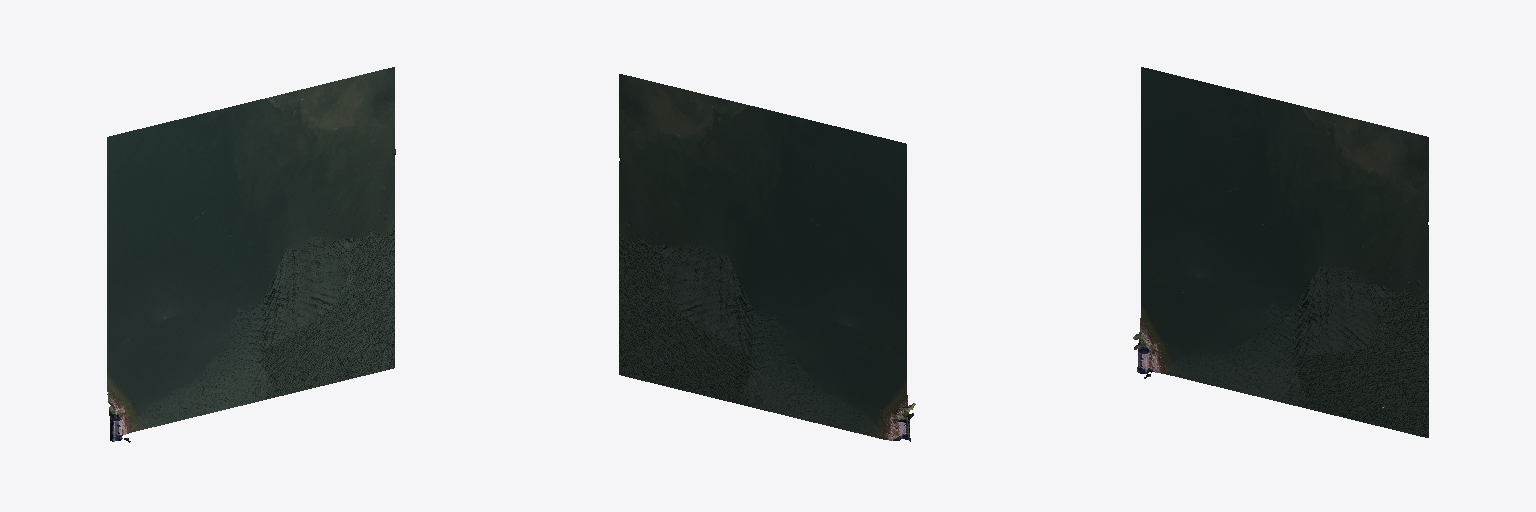
3 renders of one model, left to right at view 1: azimuth 30°, elevation 25°; view 2: azimuth 150°, elevation 25°; view 3: azimuth 330°, elevation 25°, orthographic.
Size of the model in its own units: 252 by 252 by 15.11.
2 materials, 1 textured.